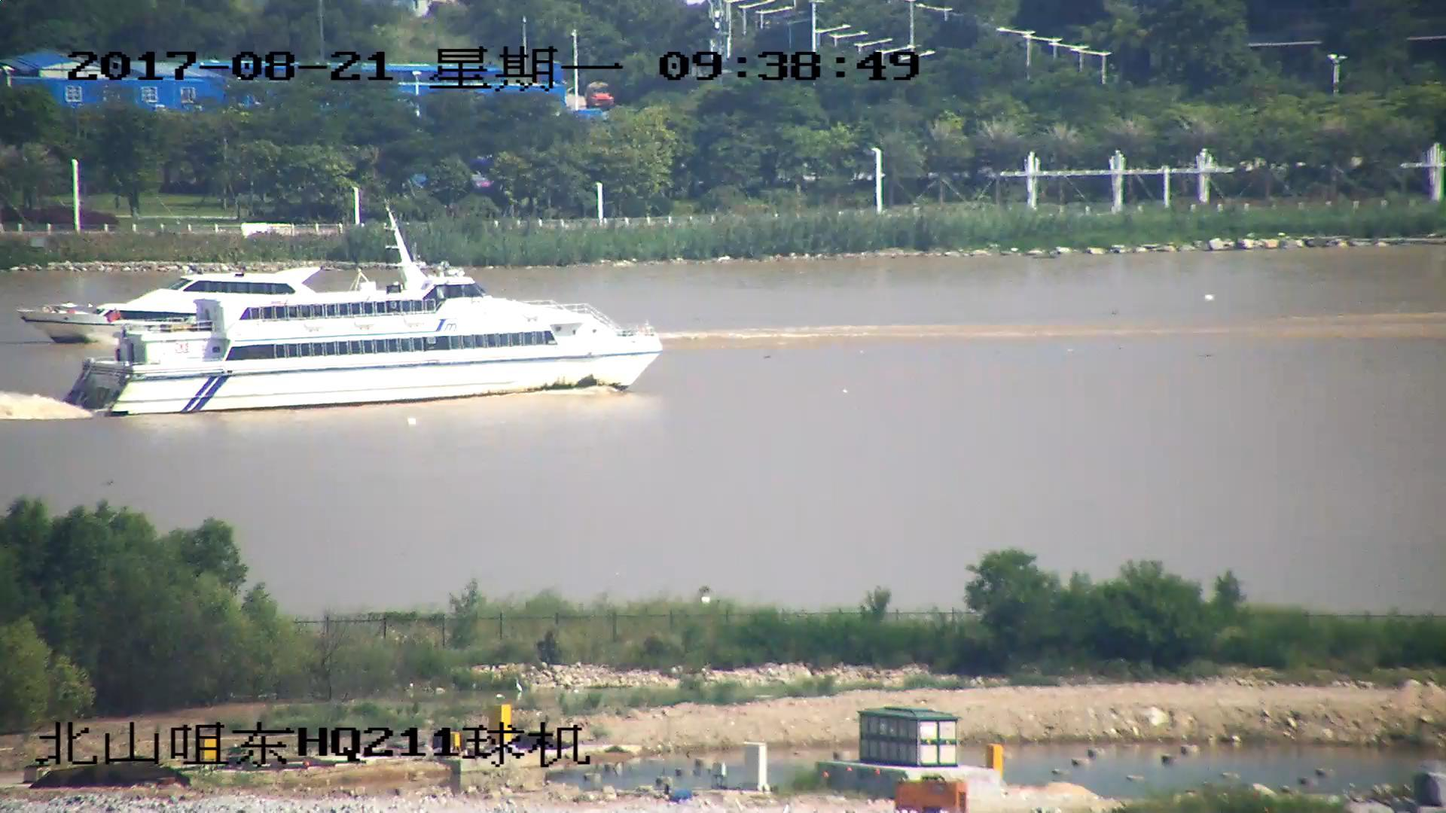passenger ship: (58, 206, 662, 416), (22, 266, 341, 346)
